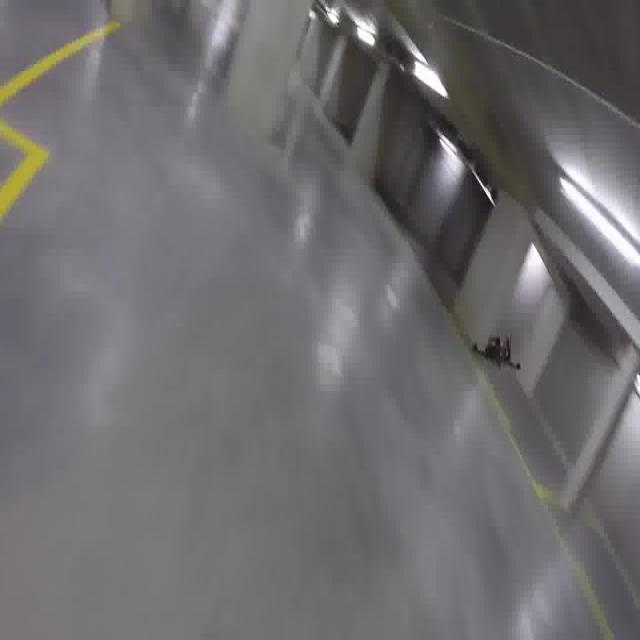drone: (469, 332, 522, 377)
